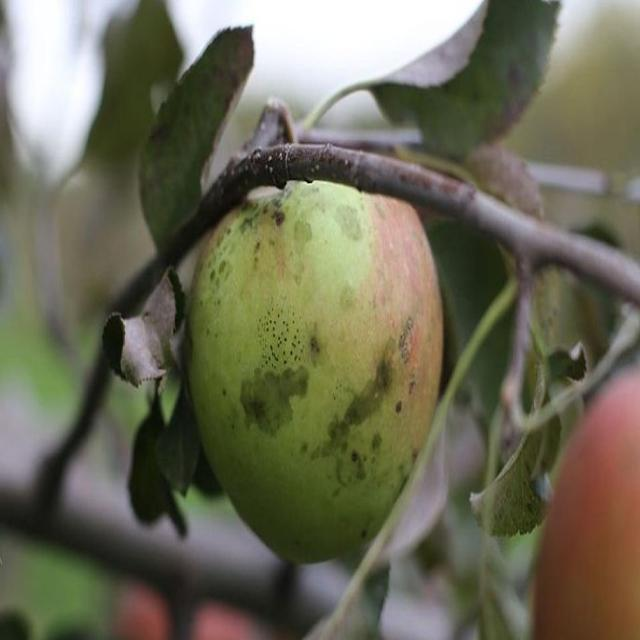Rotten Apple: (157, 130, 475, 564)
